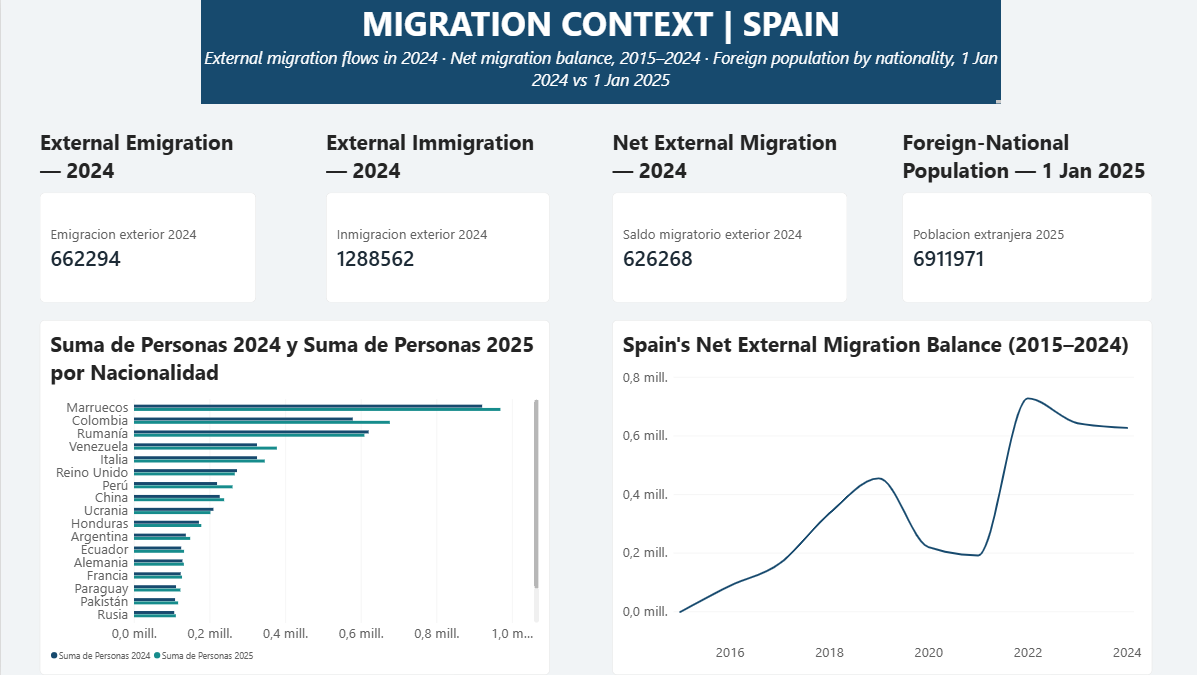

This screenshot's page, from the dashboard's own definition file:
{"tool":"powerbi","page":{"name":"Migration Context","canvas":[1920,1080],"ordinal":3},"visuals":[{"type":"cardVisual","title":"External Emigration — 2024","fields":{"Data":["INE_Migracion_ext_2024.Emigracion exterior 2024"]},"box":[62,204,346,280],"z":0},{"type":"cardVisual","title":"External Immigration — 2024","fields":{"Data":["INE_Migracion_ext_2024.Inmigracion exterior 2024"]},"box":[520,204,358,280],"z":1000},{"type":"cardVisual","title":"Net External Migration — 2024","fields":{"Data":["INE_Migracion_ext_2024.Saldo migratorio exterior 2024"]},"box":[978,204,376,280],"z":2000},{"type":"cardVisual","title":"Foreign-National Population — 1 Jan 2025","fields":{"Data":["INE_Poblacion_2025.Poblacion extranjera 2025"]},"box":[1442,204,400,280],"z":3000},{"type":"lineChart","title":"Spain''s Net External Migration Balance (2015–2024)","fields":{"Category":["INE_Saldo_serie_2015_2024.Año"],"Y":["Sum(INE_Saldo_serie_2015_2024.Saldo migratorio exterior (personas))"]},"box":[978,512,864,568],"z":4000},{"type":"clusteredBarChart","fields":{"Category":["INE_Nacionalidades_2025 (2).Nacionalidad"],"Y":["Sum(INE_Nacionalidades_2025 (2).Personas 2024)","Sum(INE_Nacionalidades_2025 (2).Personas 2025)"]},"box":[62,512,816,568],"z":5000},{"type":"textbox","title":"MIGRATION CONTEXT | SPAIN","box":[320,0,1280,166],"z":6001}]}

Visuals, with their boxes in screenshot pixels (x1, y1, x2, y2), scaled from the page's 1920x1080 canvas onto the 1197x675 screenshot:
"External Emigration — 2024" cardVisual: x1=39, y1=128, x2=254, y2=302
"External Immigration — 2024" cardVisual: x1=324, y1=128, x2=547, y2=302
"Net External Migration — 2024" cardVisual: x1=610, y1=128, x2=844, y2=302
"Foreign-National Population — 1 Jan 2025" cardVisual: x1=899, y1=128, x2=1148, y2=302
"Spain''s Net External Migration Balance (2015–2024)" lineChart: x1=610, y1=320, x2=1148, y2=674
clusteredBarChart - INE_Nacionalidades_2025 (2).Nacionalidad x Sum(INE_Nacionalidades_2025 (2).Personas 2024): x1=39, y1=320, x2=547, y2=674
"MIGRATION CONTEXT | SPAIN" textbox: x1=200, y1=0, x2=998, y2=104
